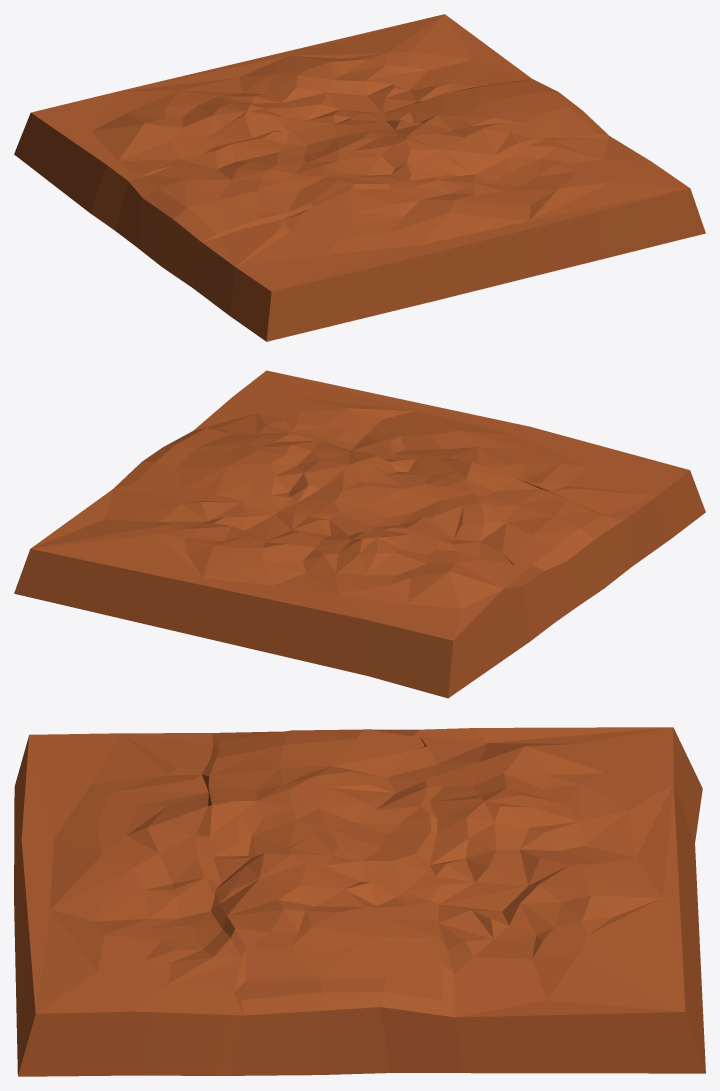
The model's file is Tierra.fbx.
The picture shows the model from 3 angles, top to bottom: view 1: azimuth 30°, elevation 25°; view 2: azimuth 150°, elevation 25°; view 3: azimuth 270°, elevation 25°; orthographic projection. The views are drawn at different scales.
Parts seen in each view (by area): view 1: PP_Meadow_Path_05; view 2: PP_Meadow_Path_05; view 3: PP_Meadow_Path_05.
Part boxes in pixels (x1,y1,x2,y2): PP_Meadow_Path_05: (14, 14, 705, 341); PP_Meadow_Path_05: (14, 370, 705, 698); PP_Meadow_Path_05: (14, 727, 705, 1076).
Size of the model in its own units: 2275 by 333 by 2285.
